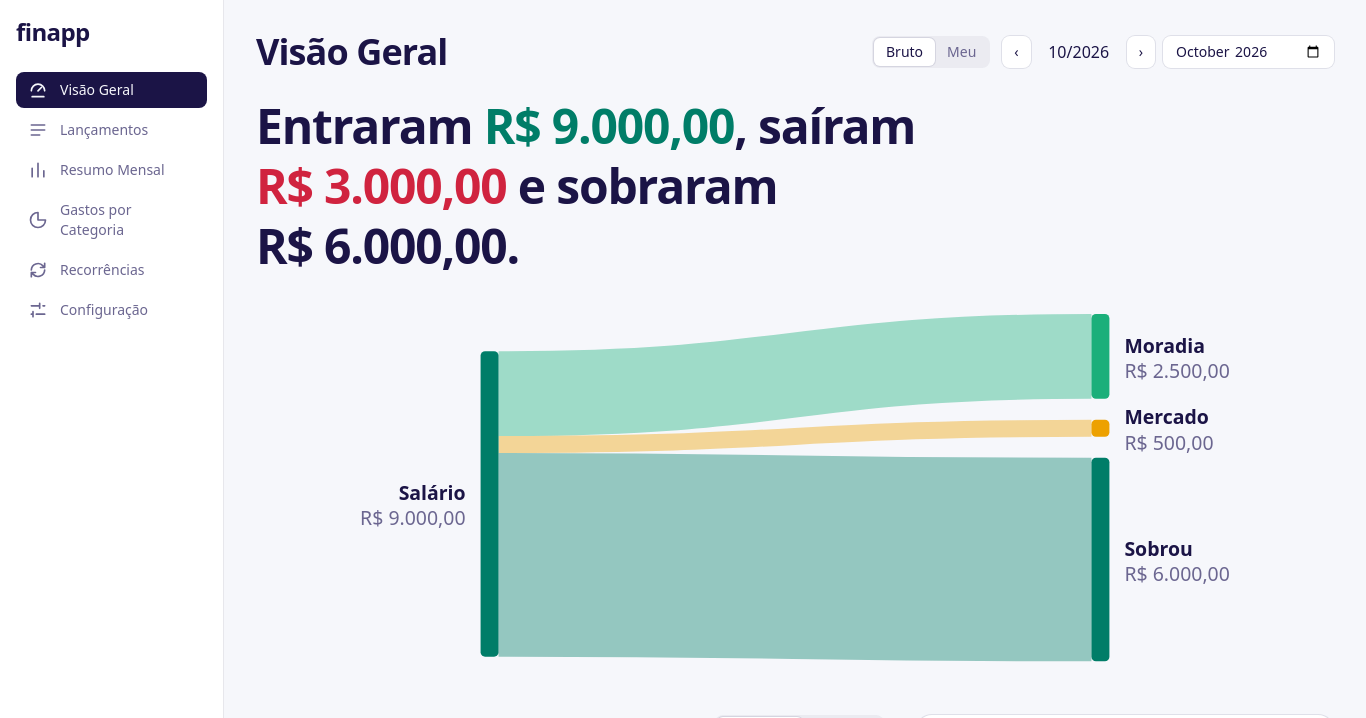
Overview page › moves to another month
Check: the heading "Visão Geral" is shown, box [256,32,448,72]
Check: the text "Entraram" is shown, box [256,93,484,158]
Click the button named "Próximo mês".
click(1141, 52)  # box [1127,36,1155,68]
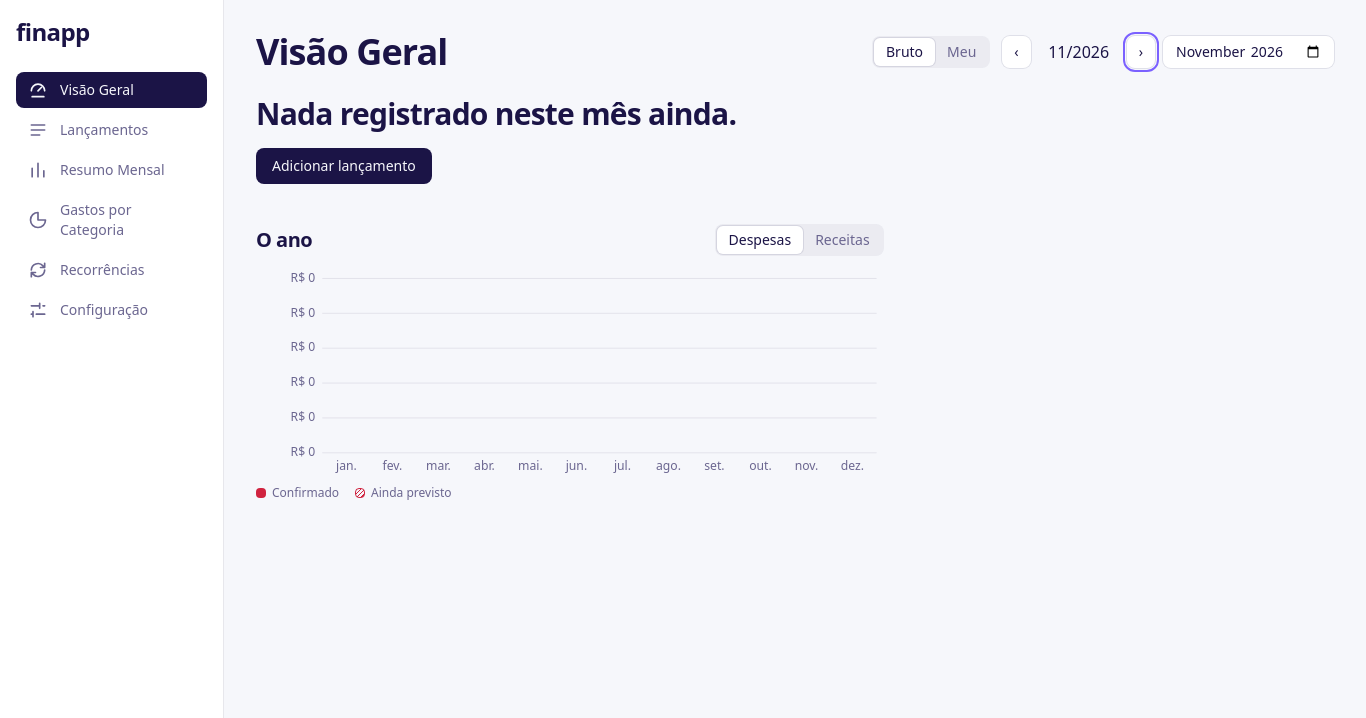
Check: the text "Nada registrado neste mês ainda." is shown, box [256,93,736,134]
